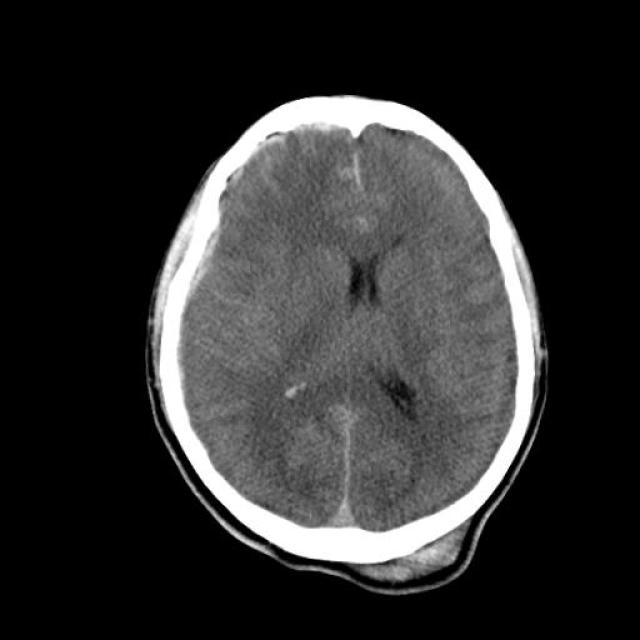Subdural: (158, 100, 336, 304)
